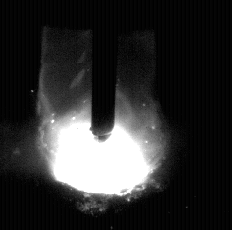arame: (92, 0, 116, 141)
poca: (35, 0, 170, 230)
